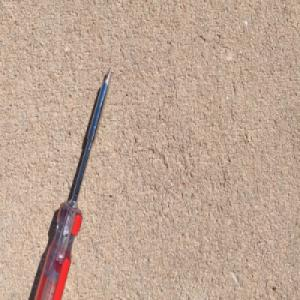Screwdriver: (32, 65, 113, 300)
